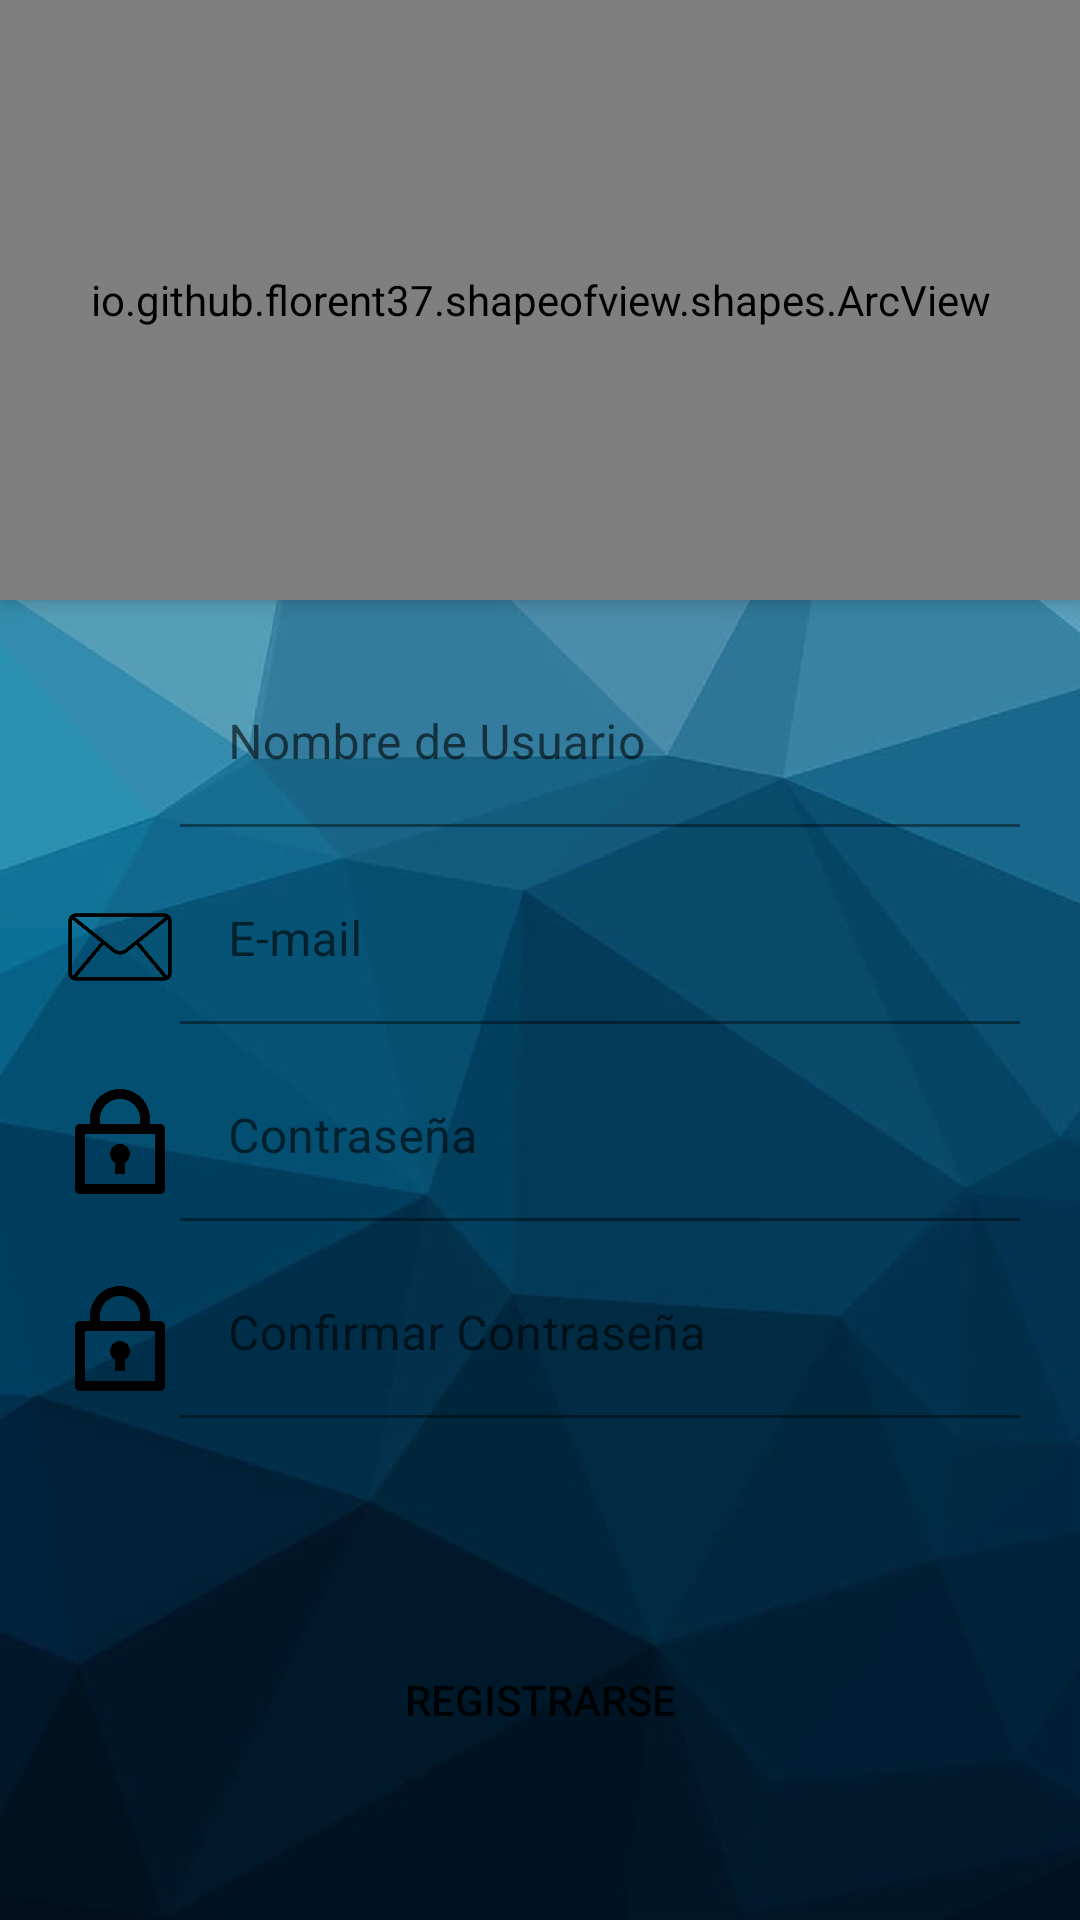

Icons on this 1080×1920 Android screen, each with the point to tap as (x=x, y=y):
cerrarconllave: (x=120, y=1139), (x=120, y=1338)
correo: (x=120, y=947)
